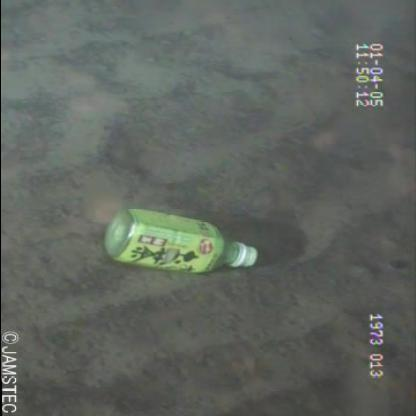Rác: (94, 199, 262, 285)
